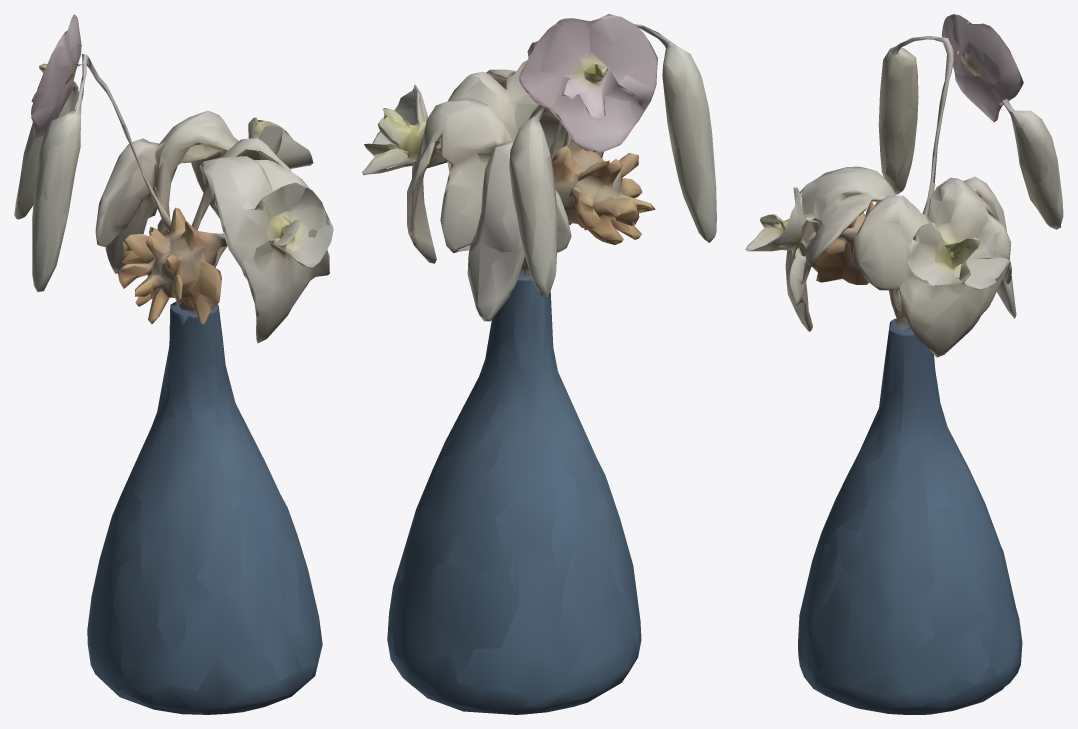
File: 0000_mask_001_blue_vase_with_flowers.glb
3 renders of one model, left to right at view 1: azimuth 30°, elevation 25°; view 2: azimuth 150°, elevation 25°; view 3: azimuth 270°, elevation 25°, orthographic. The views are drawn at different scales.
Visible parts, largest first — view 1: mask_001_object; view 2: mask_001_object; view 3: mask_001_object.
Part boxes in pixels (<box>): mask_001_object: <box>14,14,333,714</box>; mask_001_object: <box>362,14,716,714</box>; mask_001_object: <box>745,14,1063,714</box>.
Bounding box in the file's own units: 0.2637 × 0.5611 × 0.2645.
